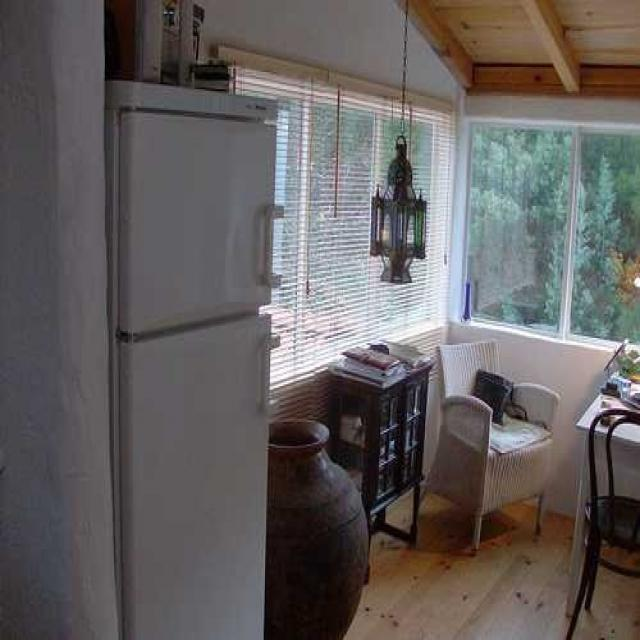refrigerator: (112, 79, 278, 640)
